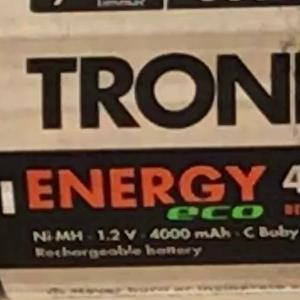keyword: (24, 222, 90, 250)
